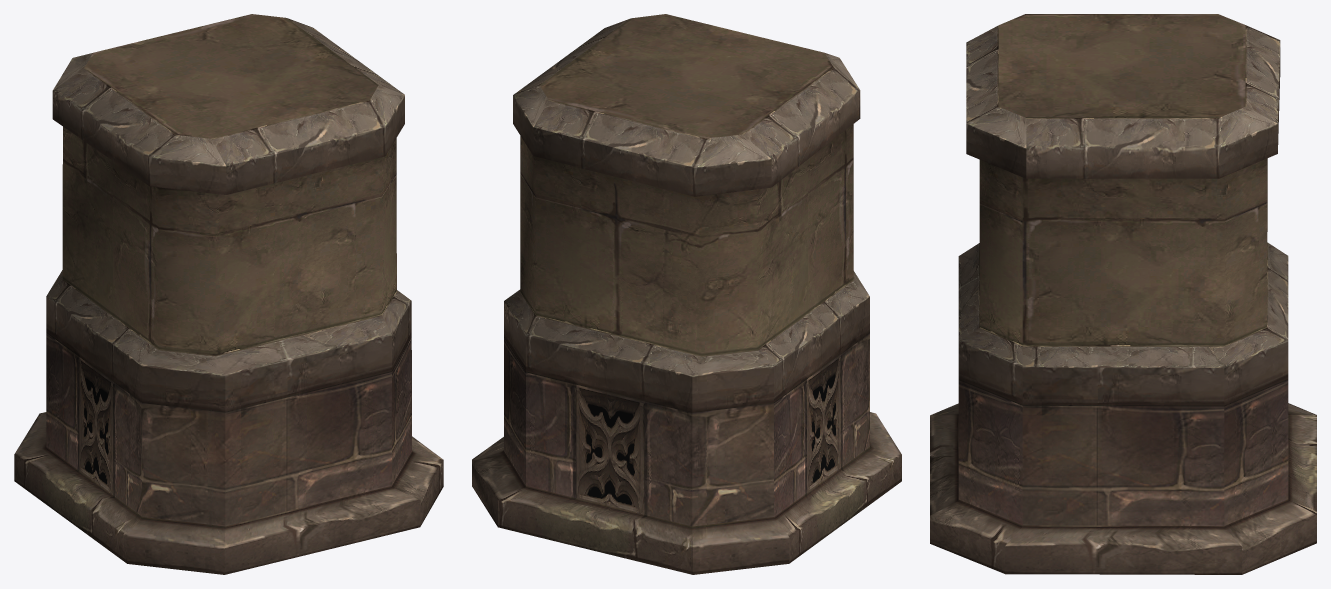
Rendered from A03_pillar_c_half.FBX.
3 views of the same model, side by side, from view 1: azimuth 30°, elevation 25°; view 2: azimuth 150°, elevation 25°; view 3: azimuth 270°, elevation 25° (orthographic). The views are drawn at different scales.
Parts seen in each view (by area): view 1: A03_pillar_c_half; view 2: A03_pillar_c_half; view 3: A03_pillar_c_half.
Boxes of the visible parts, x1,y1,x2,y2 form: A03_pillar_c_half: (14, 14, 443, 574); A03_pillar_c_half: (472, 14, 901, 574); A03_pillar_c_half: (930, 14, 1316, 574).
Bounding box in the file's own units: 2.56 × 3.14 × 2.57.
